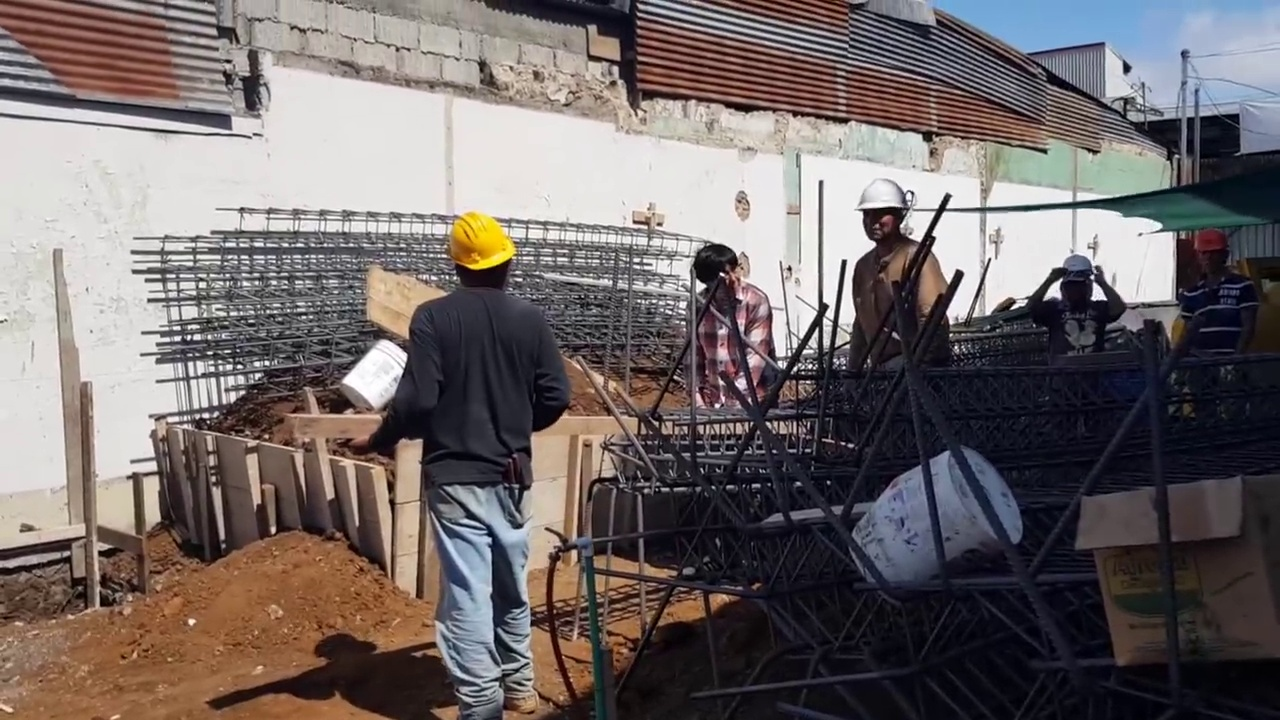helmet: (439, 215, 519, 279), (855, 183, 910, 222), (1057, 255, 1100, 286), (1192, 229, 1229, 252)
helmet-off: (691, 243, 742, 303)
helmet-on: (434, 209, 518, 299), (855, 178, 920, 249), (1052, 254, 1104, 307), (1192, 230, 1231, 275)
person: (340, 204, 572, 720), (841, 180, 964, 371), (683, 243, 780, 416), (1169, 230, 1257, 396), (1033, 259, 1130, 362)
